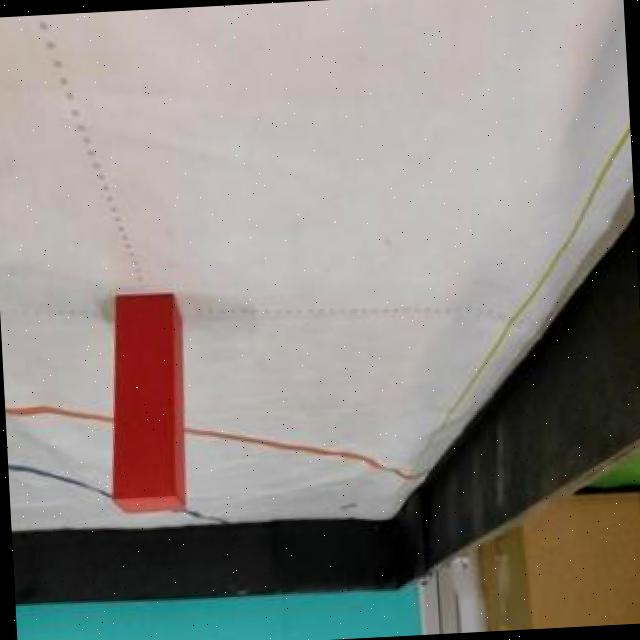redbox: (99, 294, 194, 516)
